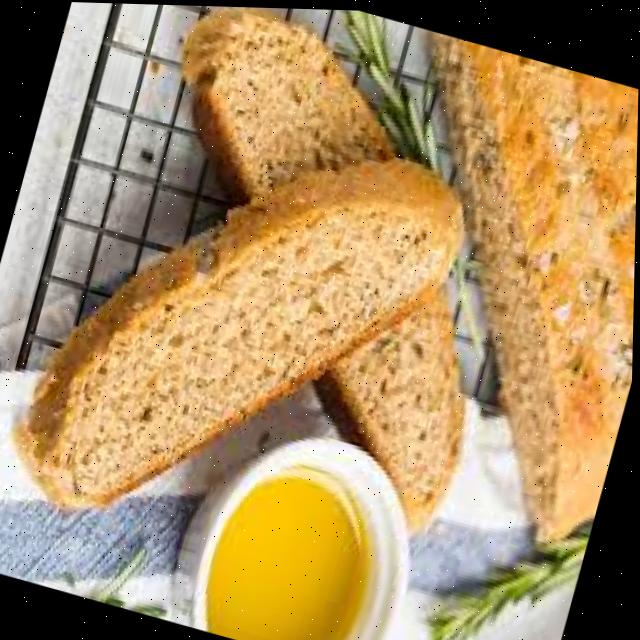Bread: (20, 156, 460, 504)
